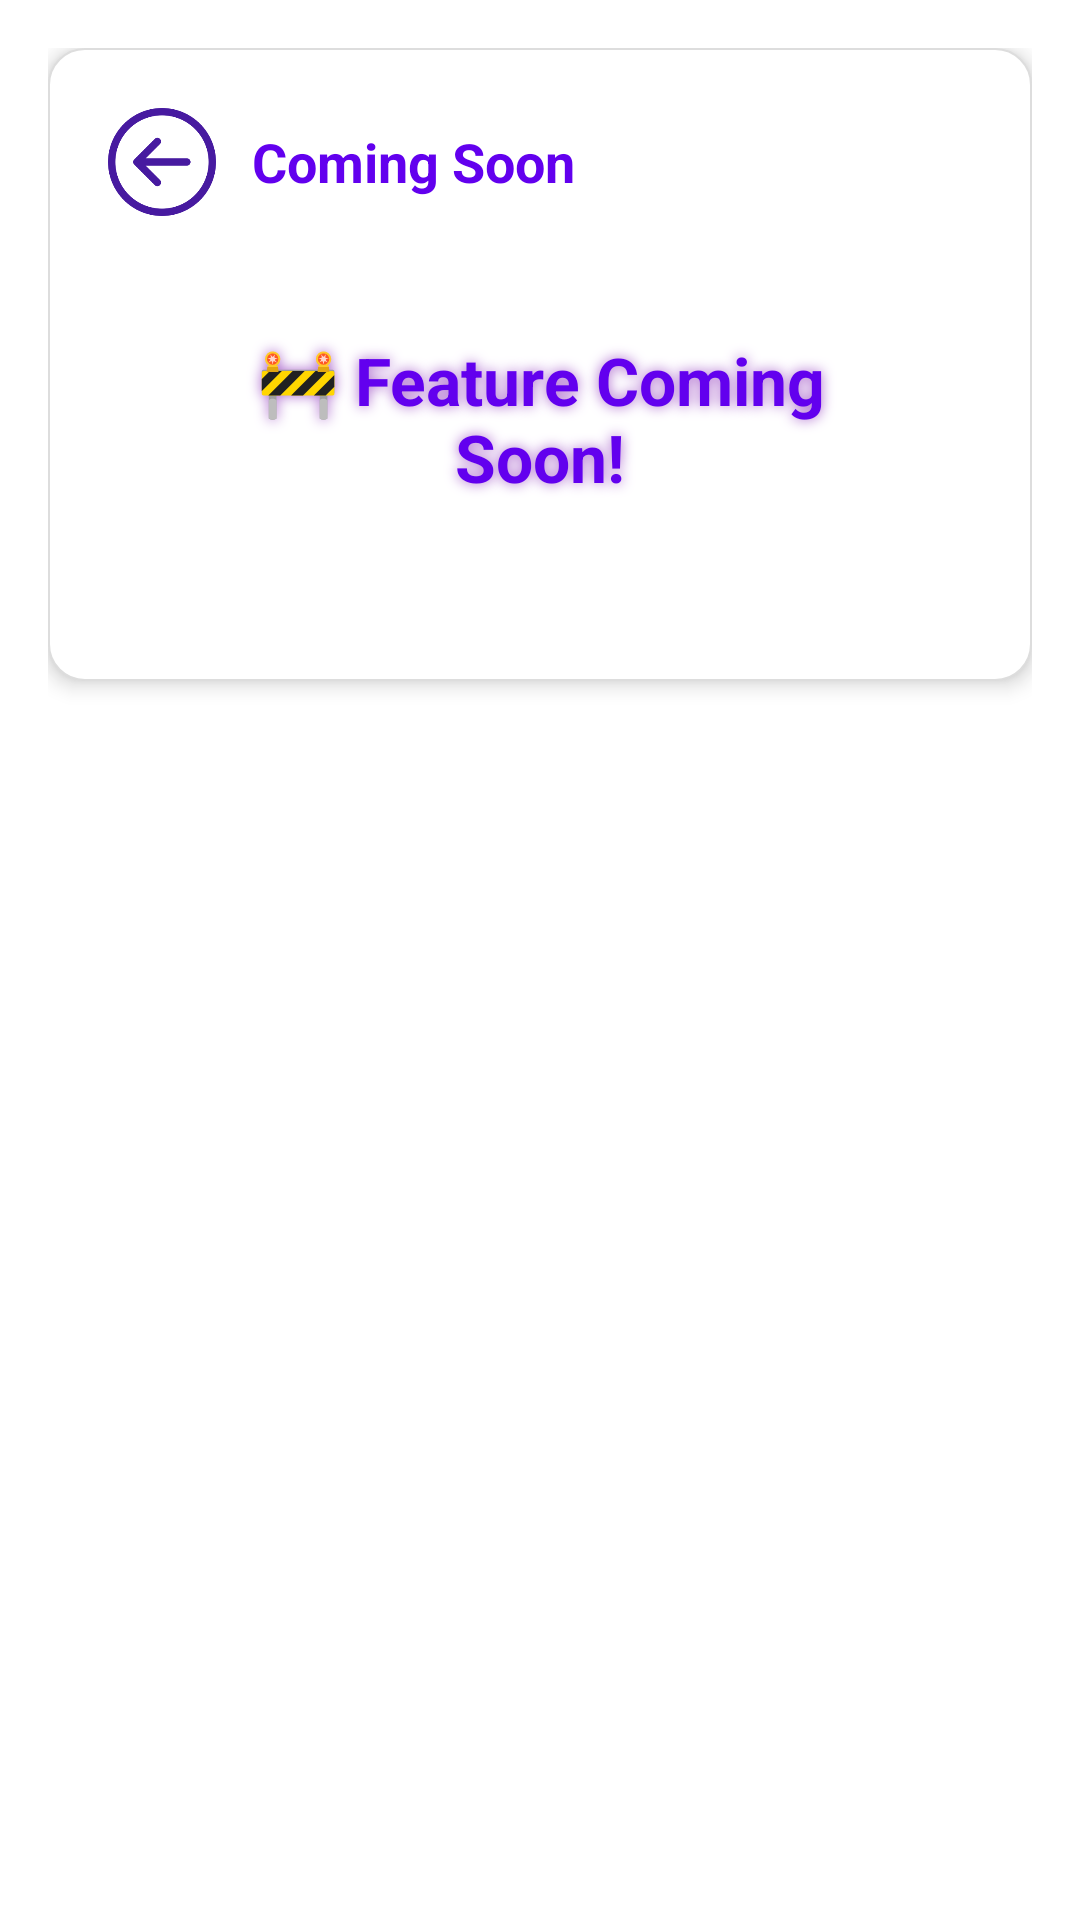

Named icons in this screenshot (1080*1920) and their centers, [x,y]:
back: [162,162]
